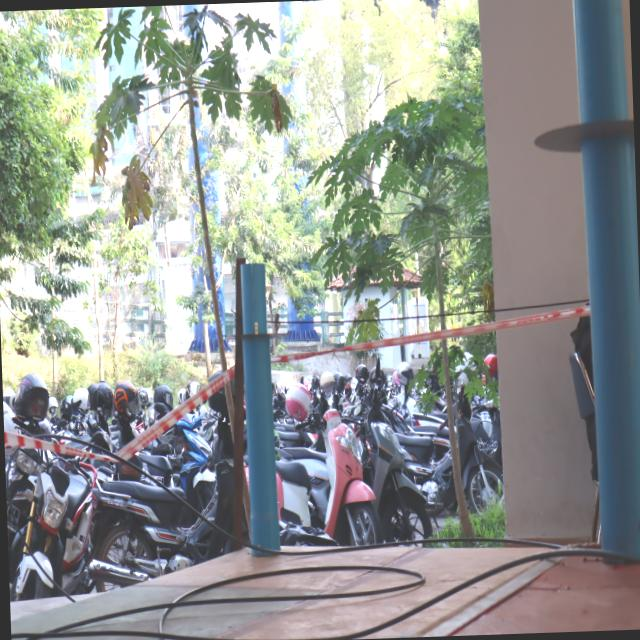pole: (519, 0, 637, 231), (217, 255, 289, 420)
